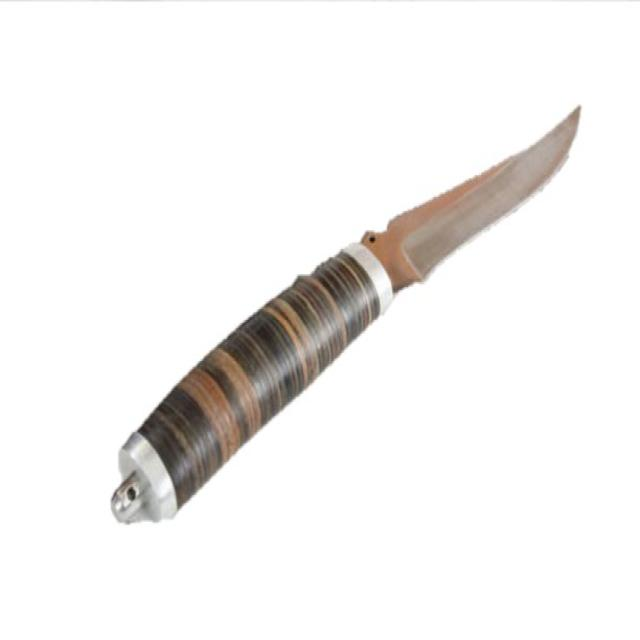knife: (111, 96, 593, 534)
